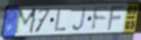7: (34, 8, 52, 34)
F: (106, 4, 128, 32), (91, 6, 111, 33)
J: (71, 6, 88, 33)
L: (54, 8, 68, 32)
M: (14, 7, 39, 35)
